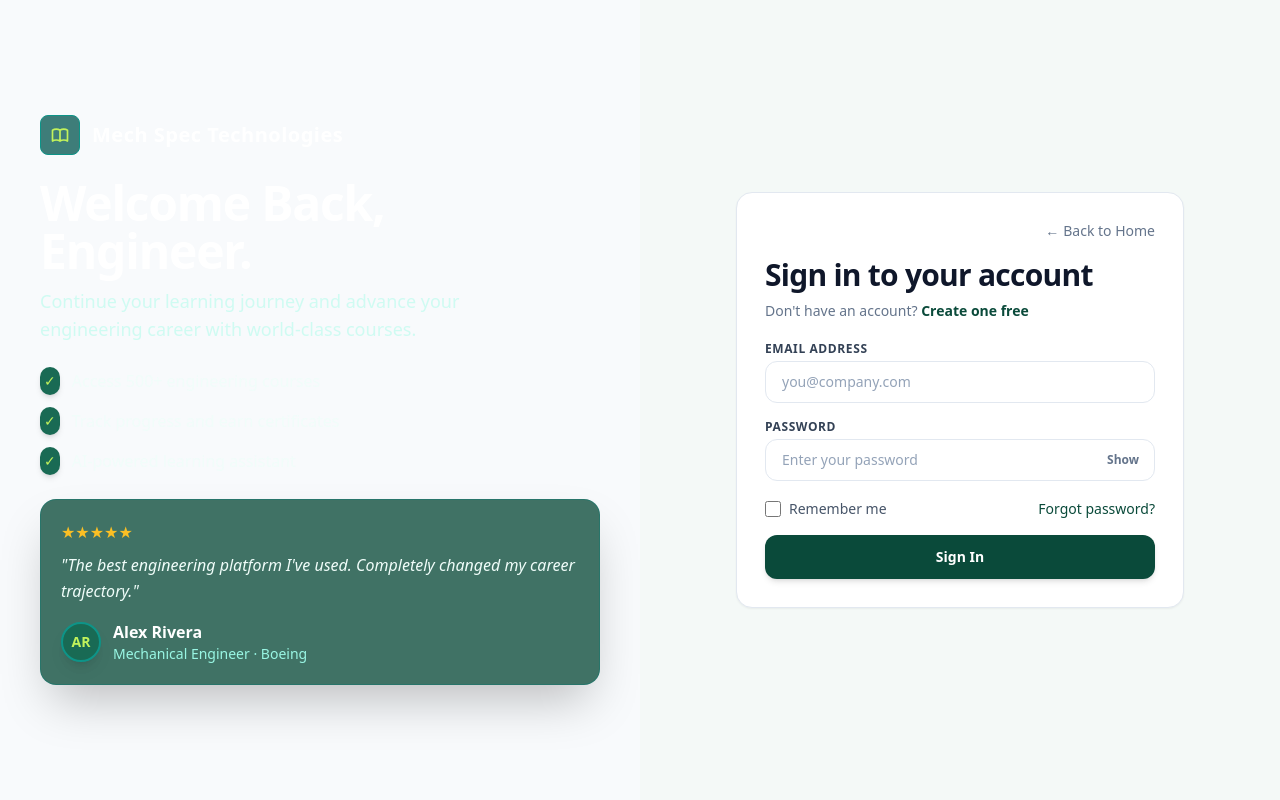
Scenario: Login Page › shows an error when login fails
The width and height of the screenshot is (1280, 800).
Type "wrong@example.com" into the field labelled "Email address". click: (960, 382)
box: left=765, top=361, right=1155, bottom=403
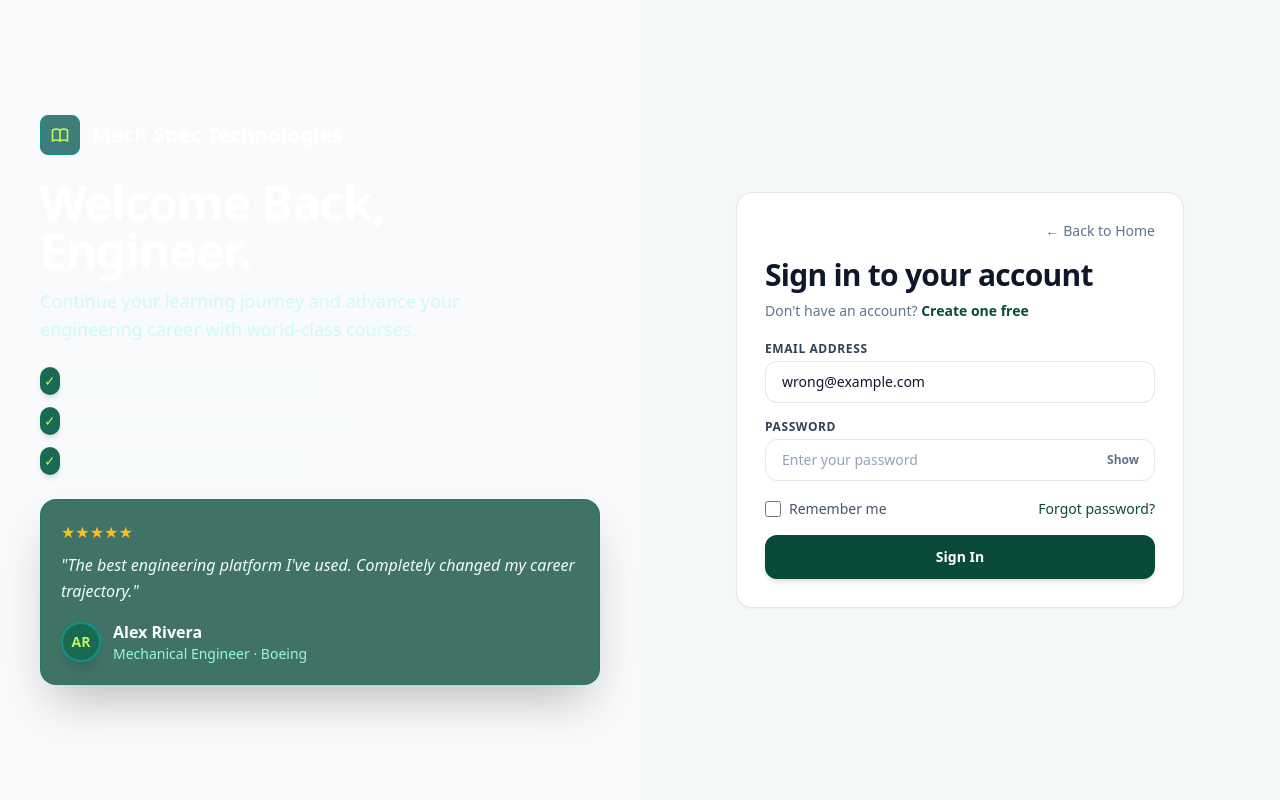
Type "WrongPassword" into the password field labelled "Password". click: (960, 460)
box: left=765, top=439, right=1155, bottom=481
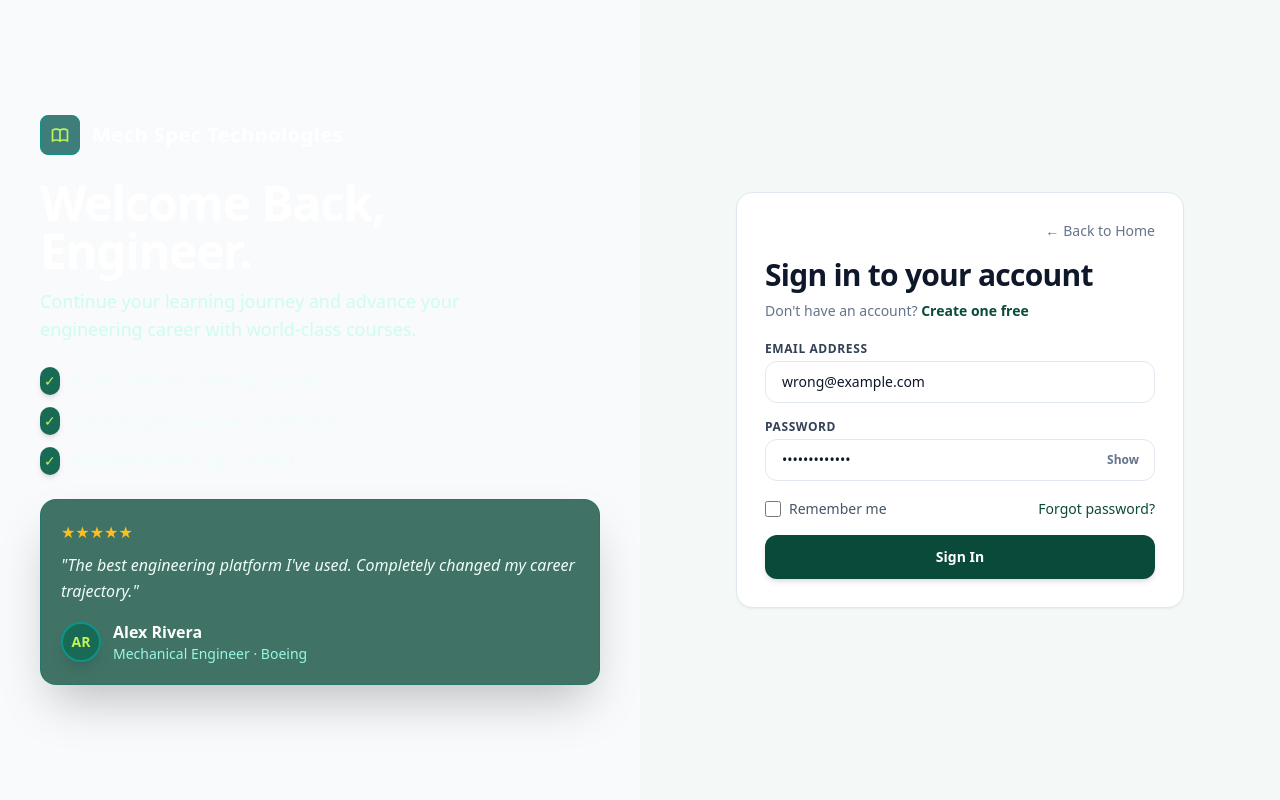
Click the button "Sign In". click: (960, 557)
box: left=765, top=535, right=1155, bottom=579
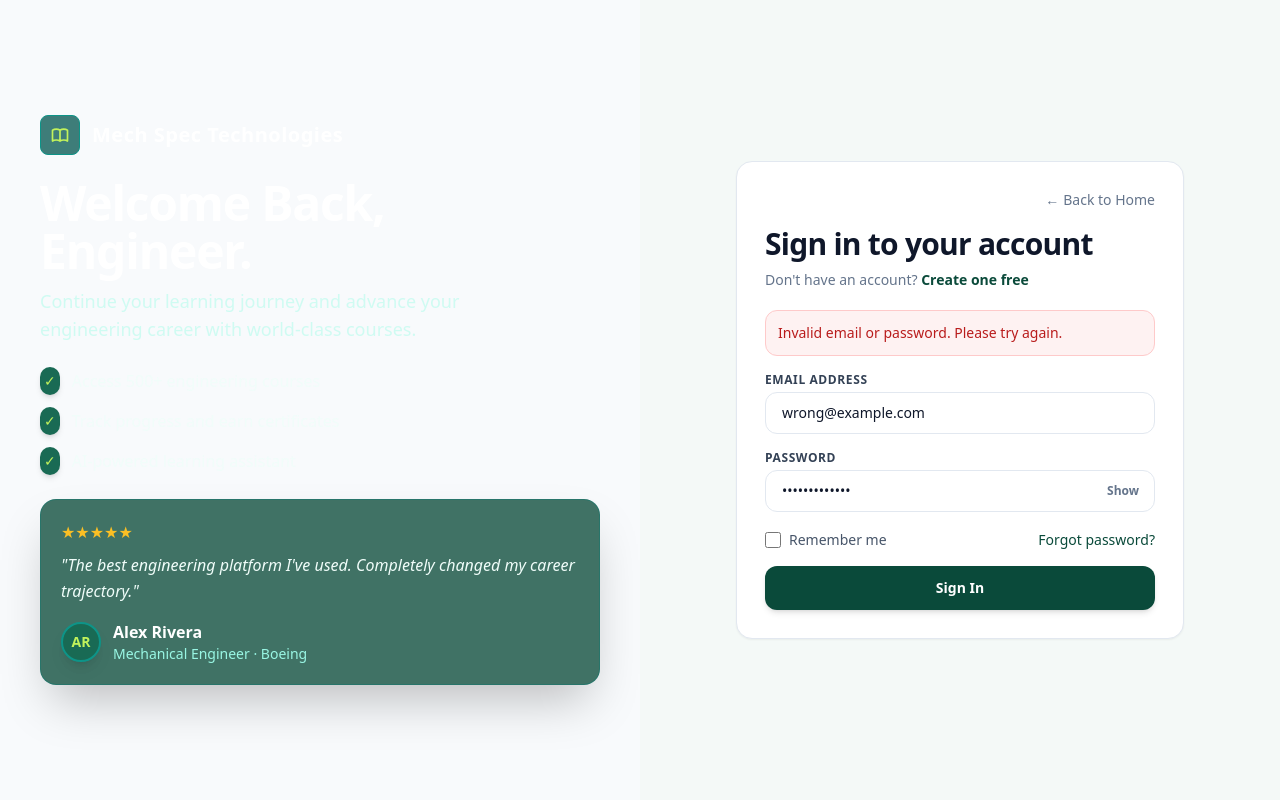
Expected: the text "Invalid email or password. Please try again." is shown, left=778, top=323, right=1062, bottom=342
